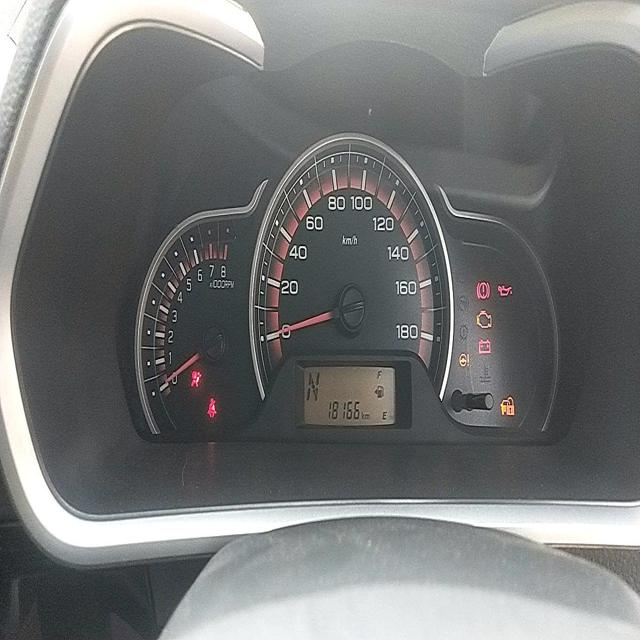odometer: (327, 397, 360, 423)
